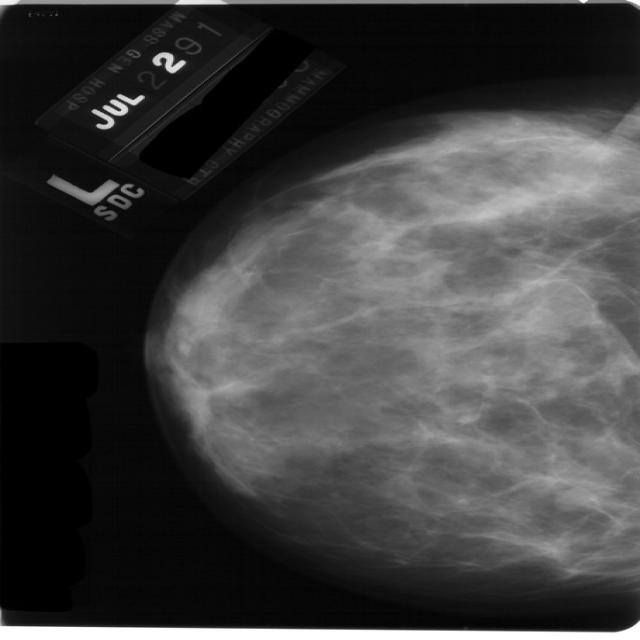tumour: (553, 487, 599, 511)
